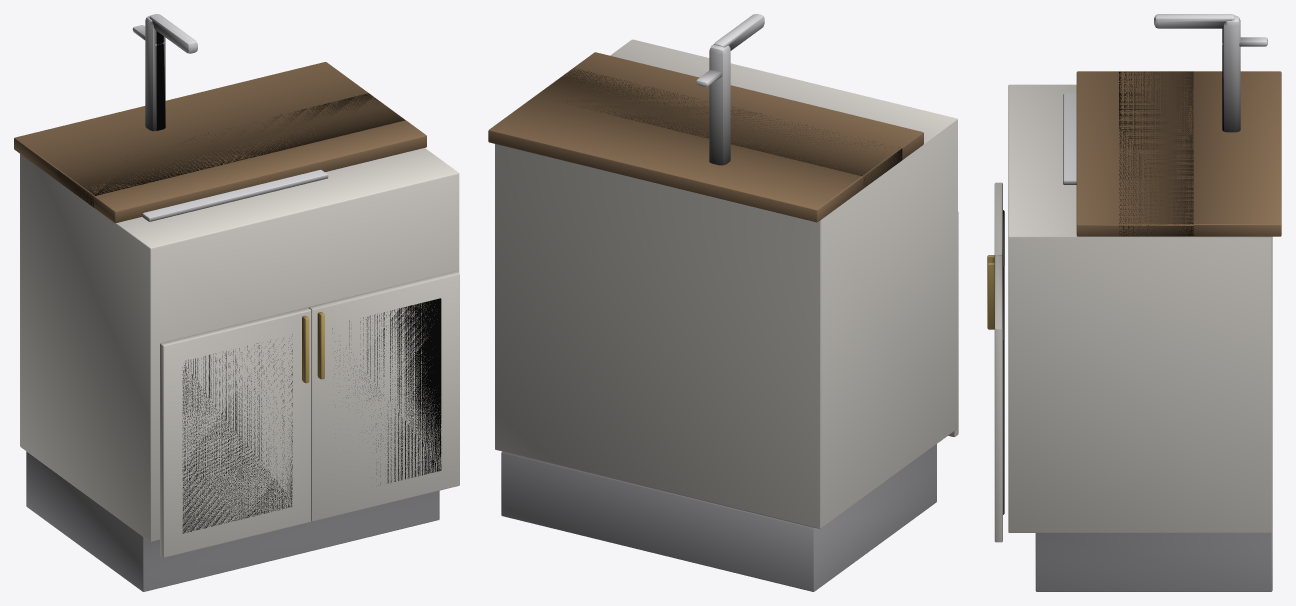
Rendered from kitchen_sink.glb.
3 renders of one model, left to right at view 1: azimuth 30°, elevation 25°; view 2: azimuth 150°, elevation 25°; view 3: azimuth 270°, elevation 25°, orthographic. The views are drawn at different scales.
Parts seen in each view (by area): view 1: kitchen_sink; view 2: kitchen_sink; view 3: kitchen_sink.
Part boxes in pixels (box(x1,y1,x2,y2)): kitchen_sink: box(14, 14, 459, 591); kitchen_sink: box(488, 14, 958, 591); kitchen_sink: box(987, 14, 1281, 591).
Bounding box in the file's own units: 0.8 × 1.17 × 0.646.
